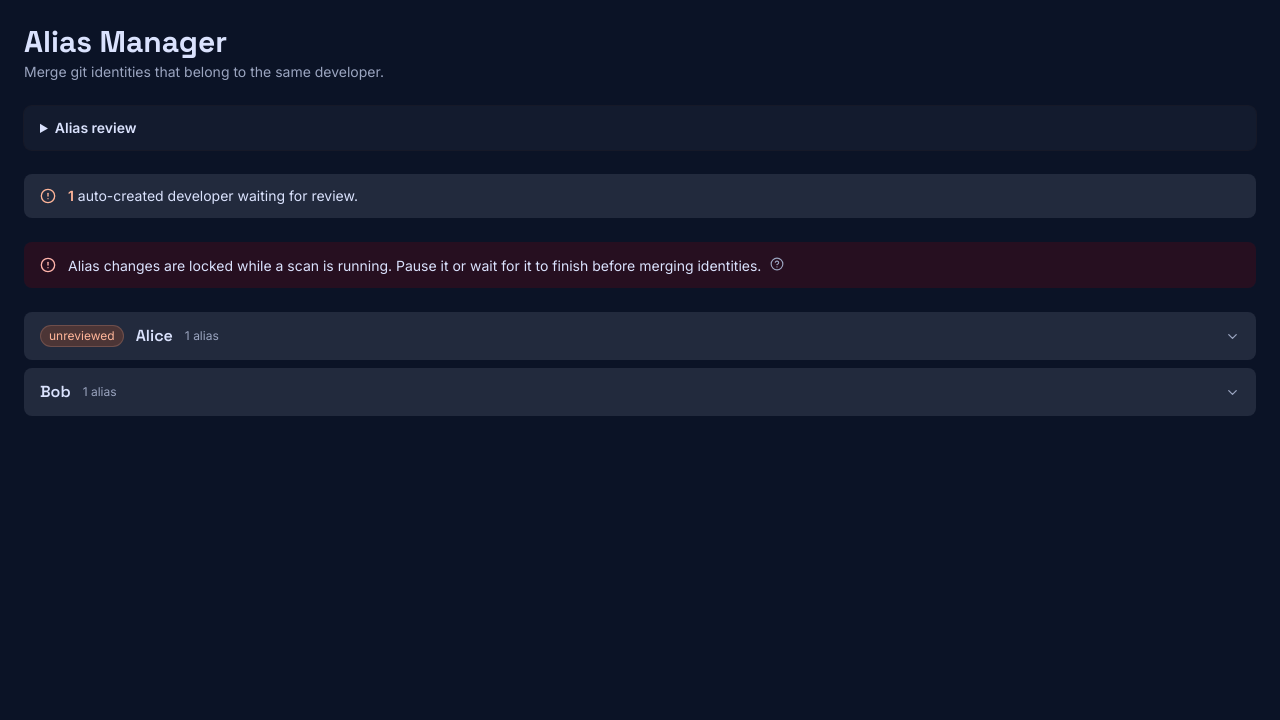
Test case: AliasManager › disables merge and alias moves while a scan is running
This screenshot has width=1280, height=720.
Click the button "unreviewed Alice 1 alias". click: point(82, 336)
box: [24,312,1256,360]
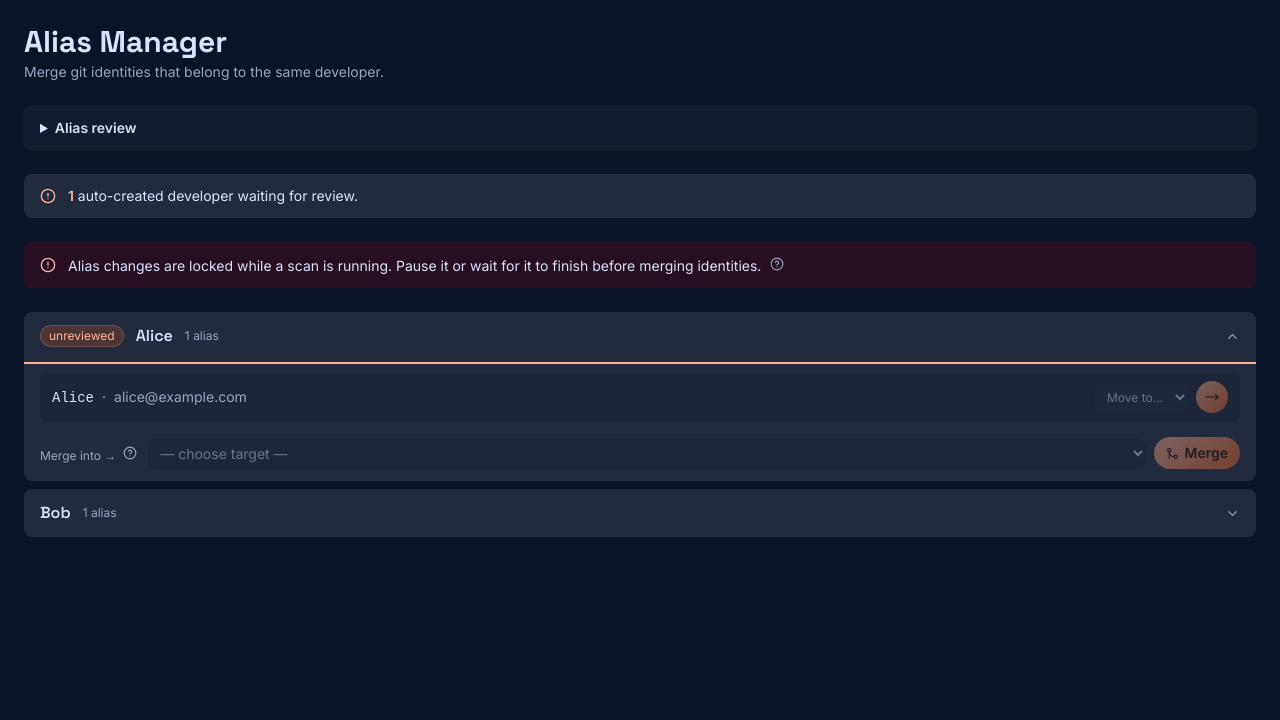
Expected: the dropdown named "Move Alice <alice@example.com> to" is disabled, [1095,382,1188,412]
Expected: the dropdown named "Merge Alice into" is disabled, [148,438,1146,468]
Expected: the button named "Move alias Alice <alice@example.com>" is disabled, [1196,381,1228,413]
